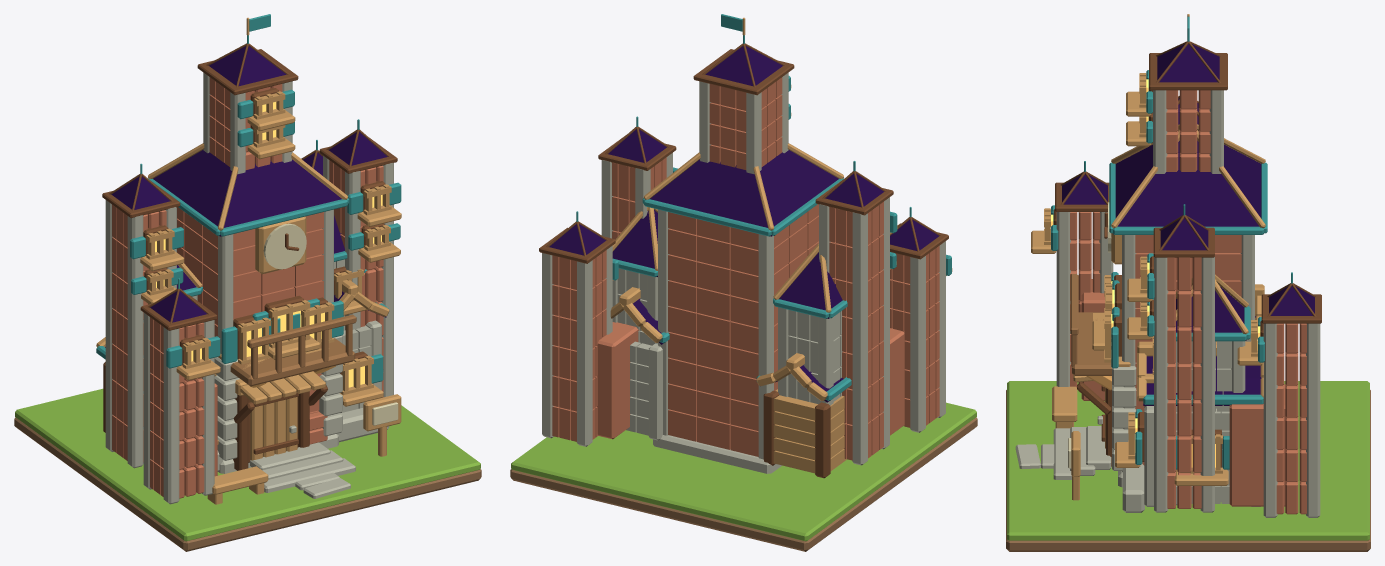
Rendered from town_hall_l14_active_LOD0.glb.
The picture shows the model from 3 angles, left to right: view 1: azimuth 30°, elevation 25°; view 2: azimuth 150°, elevation 25°; view 3: azimuth 270°, elevation 25°; orthographic projection. The views are drawn at different scales.
Parts seen in each view (by area): view 1: town_hall_l14_active_grass_tile, town_hall_l14_active_earth_tile, town_hall_l14_active_corner_reinforcement.024, town_hall_l14_active_hip_roof_shingle.002, town_hall_l14_active_corner_reinforcement.036, town_hall_l14_active_premium_balcony_floor, town_hall_l14_active_hip_roof_shingle.011, town_hall_l14_active_corner_reinforcement.030, town_hall_l14_active_corner_reinforcement.025, town_hall_l14_active_central_spire_roof_shingle, town_hall_l14_active_corner_reinforcement, town_hall_l14_active_hip_roof_shingle.001 (+34 smaller); view 2: town_hall_l14_active_grass_tile, town_hall_l14_active_earth_tile, town_hall_l14_active_corner_reinforcement.025, town_hall_l14_active_vertical_corner_connector, town_hall_l14_active_hip_roof_shingle.008, town_hall_l14_active_corner_reinforcement.033, town_hall_l14_active_corner_reinforcement.037, town_hall_l14_active_corner_reinforcement.001, town_hall_l14_active_hip_roof_shingle.011, town_hall_l14_active_corner_reinforcement.035, town_hall_l14_active_foundation, town_hall_l14_active_corner_reinforcement.003 (+59 smaller); view 3: town_hall_l14_active_grass_tile, town_hall_l14_active_earth_tile, town_hall_l14_active_vertical_corner_connector, town_hall_l14_active_corner_reinforcement.030, town_hall_l14_active_hip_roof_shingle.005, town_hall_l14_active_corner_reinforcement.031, town_hall_l14_active_corner_reinforcement.035, town_hall_l14_active_corner_reinforcement.034, town_hall_l14_active_corner_reinforcement.038, town_hall_l14_active_hip_roof_shingle.004, town_hall_l14_active_central_spire_roof_shingle, town_hall_l14_active_corner_reinforcement.002 (+49 smaller).
Boxes of the visible parts, left/top/right/bottom form: town_hall_l14_active_grass_tile: left=15, top=388, right=480, bottom=541; town_hall_l14_active_earth_tile: left=14, top=417, right=481, bottom=551; town_hall_l14_active_corner_reinforcement.024: left=127, top=215, right=143, bottom=468; town_hall_l14_active_hip_roof_shingle.002: left=220, top=176, right=341, bottom=236; town_hall_l14_active_corner_reinforcement.036: left=163, top=327, right=179, bottom=504; town_hall_l14_active_premium_balcony_floor: left=230, top=338, right=355, bottom=386; town_hall_l14_active_hip_roof_shingle.011: left=153, top=162, right=226, bottom=236; town_hall_l14_active_corner_reinforcement.030: left=381, top=163, right=393, bottom=397; town_hall_l14_active_corner_reinforcement.025: left=105, top=200, right=113, bottom=451; town_hall_l14_active_central_spire_roof_shingle: left=209, top=46, right=286, bottom=85; town_hall_l14_active_corner_reinforcement: left=218, top=234, right=233, bottom=459; town_hall_l14_active_hip_roof_shingle.001: left=232, top=159, right=312, bottom=195; town_hall_l14_active_grass_tile: left=511, top=402, right=976, bottom=541; town_hall_l14_active_earth_tile: left=510, top=417, right=977, bottom=551; town_hall_l14_active_corner_reinforcement.025: left=852, top=212, right=867, bottom=465; town_hall_l14_active_vertical_corner_connector: left=597, top=322, right=639, bottom=439; town_hall_l14_active_hip_roof_shingle.008: left=650, top=176, right=771, bottom=236; town_hall_l14_active_corner_reinforcement.033: left=576, top=260, right=592, bottom=446; town_hall_l14_active_corner_reinforcement.037: left=910, top=256, right=925, bottom=432; town_hall_l14_active_corner_reinforcement.001: left=758, top=234, right=773, bottom=459; town_hall_l14_active_hip_roof_shingle.011: left=765, top=162, right=838, bottom=236; town_hall_l14_active_corner_reinforcement.035: left=542, top=253, right=553, bottom=438; town_hall_l14_active_foundation: left=653, top=435, right=781, bottom=473; town_hall_l14_active_corner_reinforcement.003: left=658, top=209, right=669, bottom=435; town_hall_l14_active_grass_tile: left=1007, top=381, right=1369, bottom=540; town_hall_l14_active_earth_tile: left=1006, top=390, right=1370, bottom=551; town_hall_l14_active_vertical_corner_connector: left=1229, top=384, right=1285, bottom=506; town_hall_l14_active_corner_reinforcement.030: left=1154, top=257, right=1168, bottom=512; town_hall_l14_active_hip_roof_shingle.005: left=1113, top=196, right=1263, bottom=234; town_hall_l14_active_corner_reinforcement.031: left=1200, top=257, right=1214, bottom=512; town_hall_l14_active_corner_reinforcement.035: left=1306, top=323, right=1320, bottom=517; town_hall_l14_active_corner_reinforcement.034: left=1263, top=323, right=1277, bottom=517; town_hall_l14_active_corner_reinforcement.038: left=1056, top=212, right=1070, bottom=386; town_hall_l14_active_hip_roof_shingle.004: left=1140, top=161, right=1236, bottom=195; town_hall_l14_active_central_spire_roof_shingle: left=1157, top=44, right=1219, bottom=82; town_hall_l14_active_corner_reinforcement.002: left=1122, top=235, right=1136, bottom=471.
Bounding box in the file's own units: 3.6 × 5.03 × 3.6.
